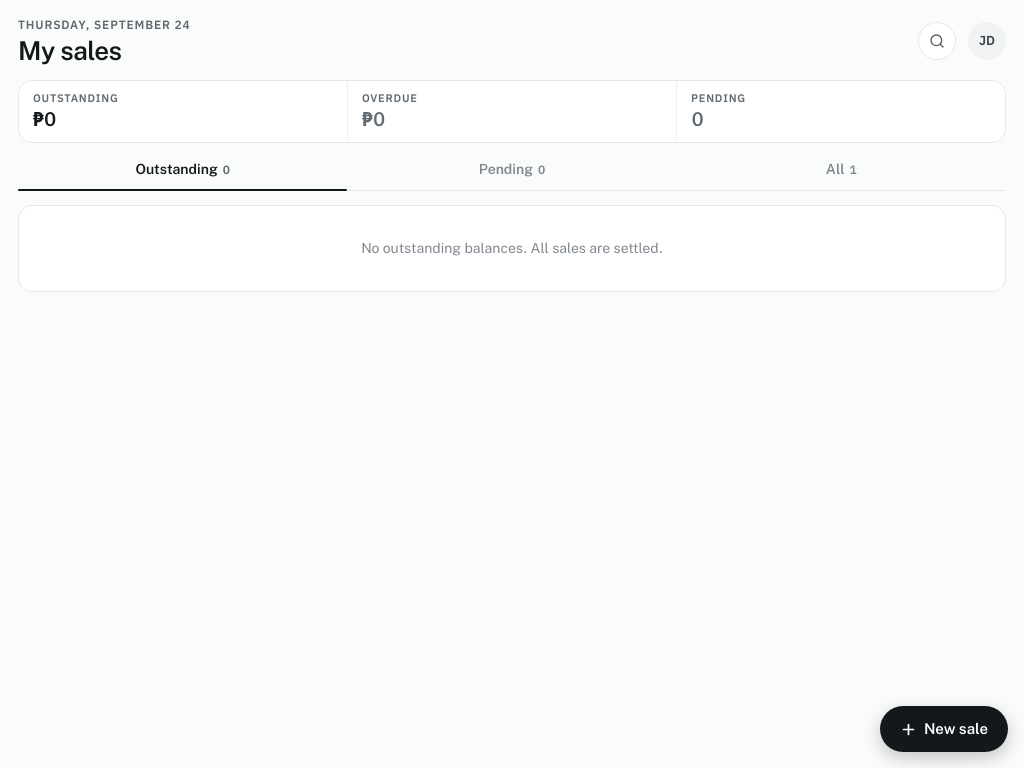
My sales › shows the sale total and status on the All tab
Click the tab with aria-label "All, 1" at (841, 174), box [677,159,1006,190]
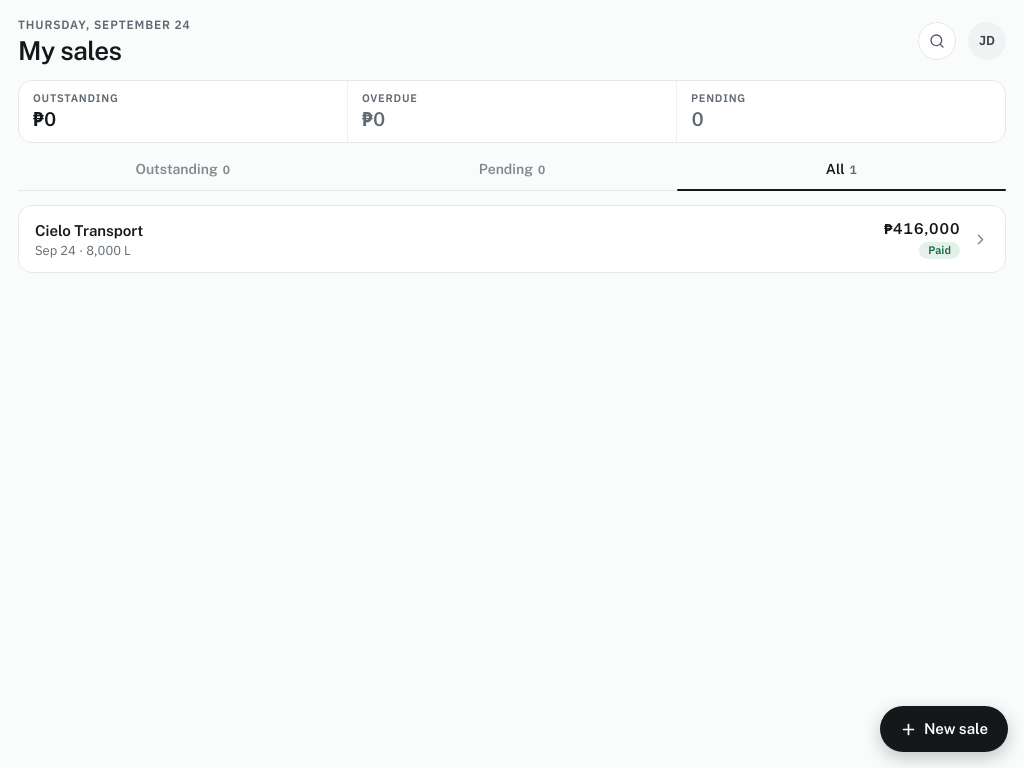
Result: the text "₱416,000" is shown at [884,219,960,238]
Result: the text "Sep 24 · 8,000 L" is shown at [35,242,131,259]
Result: the text "Paid" is shown at [919,242,960,259]
